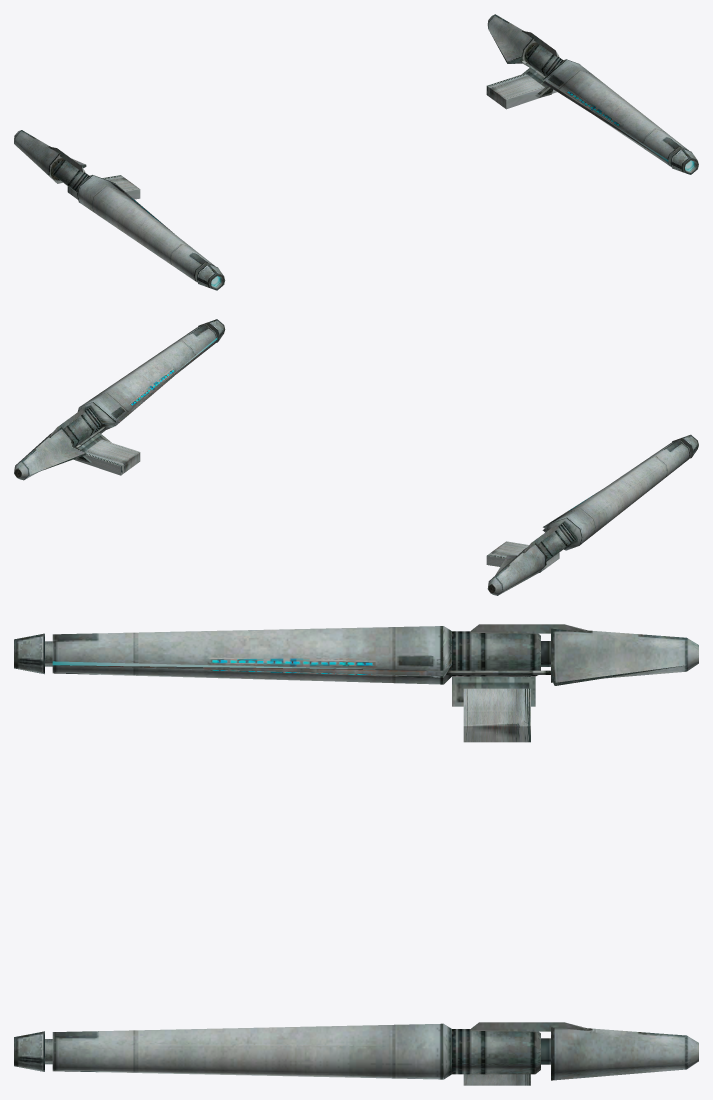
The model's file is awing_weapon_s02_l1.fbx.
3 views of the same model, one above another, from view 1: azimuth 30°, elevation 25°; view 2: azimuth 150°, elevation 25°; view 3: azimuth 270°, elevation 25° (orthographic). The views are drawn at different scales.
Parts seen in each view (by area): view 1: mesh_node; view 2: mesh_node; view 3: mesh_node.
Boxes of the visible parts, x1,y1,x2,y2 form: mesh_node: [14, 14, 698, 290]; mesh_node: [14, 319, 698, 595]; mesh_node: [14, 624, 698, 1085].
Size of the model in its own units: 9.48 by 0.7595 by 6.48.
Materials: 1 (1 with a texture image).
